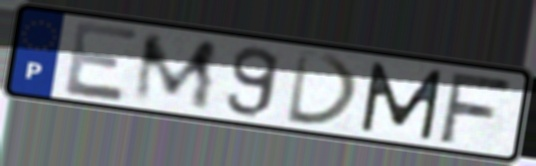9: (222, 44, 281, 119)
D: (283, 47, 364, 129)
E: (62, 18, 143, 105)
F: (435, 69, 516, 145)
M: (357, 58, 447, 142), (129, 32, 222, 112)
